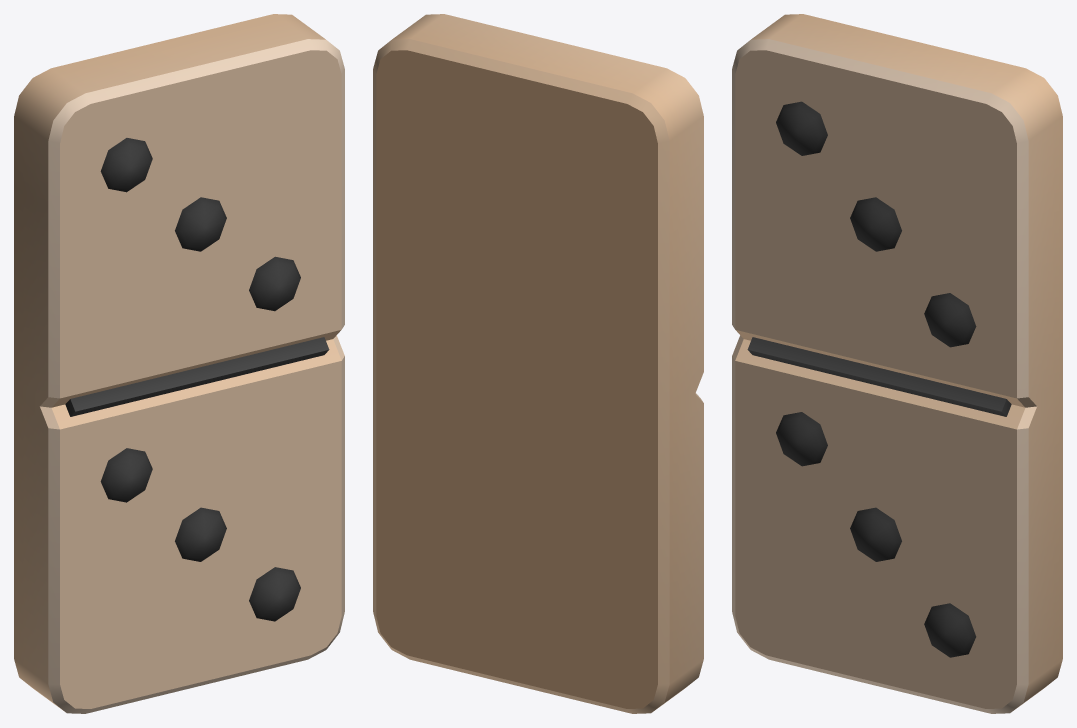
File: KFB_Domino_3-3.r1.glb
3 renders of one model, left to right at view 1: azimuth 30°, elevation 25°; view 2: azimuth 150°, elevation 25°; view 3: azimuth 330°, elevation 25°, orthographic.
Visible parts, largest first — view 1: KFB_Domino_3-3; view 2: KFB_Domino_3-3; view 3: KFB_Domino_3-3.
Boxes of the visible parts, bbox=[...] form: KFB_Domino_3-3: bbox=[14, 14, 344, 713]; KFB_Domino_3-3: bbox=[373, 14, 703, 713]; KFB_Domino_3-3: bbox=[732, 14, 1062, 713].
Size of the model in its own units: 2.44 by 4.87 by 0.6739.
Materials: 1 (1 with a texture image).
